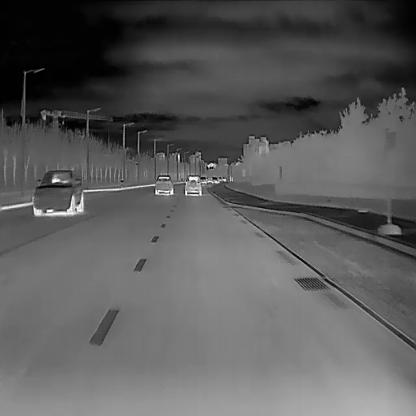car: (31, 168, 84, 216), (154, 174, 173, 195), (184, 174, 202, 196), (200, 176, 206, 184), (211, 175, 217, 183), (218, 176, 221, 181)
